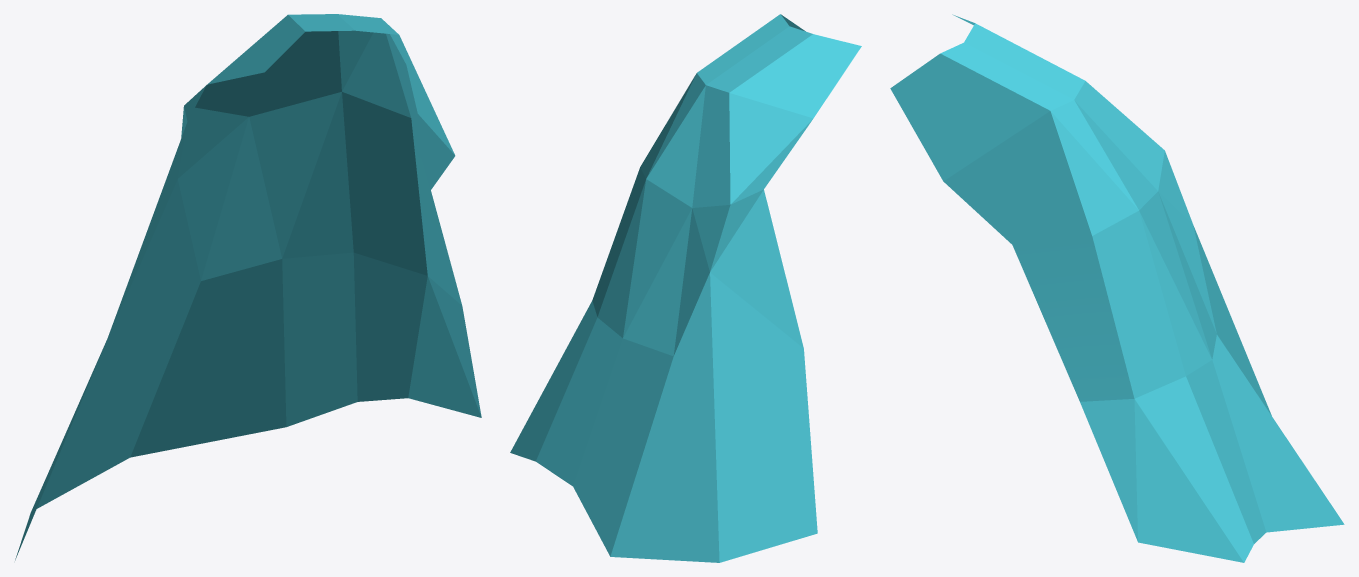
The model's file is ground.084.fbx.
3 views of the same model, side by side, from view 1: azimuth 30°, elevation 25°; view 2: azimuth 150°, elevation 25°; view 3: azimuth 270°, elevation 25° (orthographic). The views are drawn at different scales.
Parts seen in each view (by area): view 1: ground_084; view 2: ground_084; view 3: ground_084.
Boxes of the visible parts, <box> form: ground_084: <box>15,14,481,560</box>; ground_084: <box>510,14,861,562</box>; ground_084: <box>890,14,1344,562</box>.
Bounding box in the file's own units: 4265 × 5832 × 5029.
